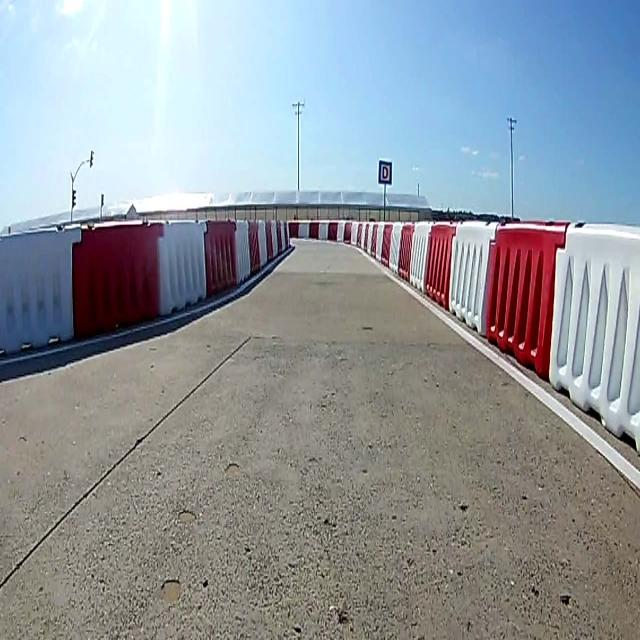durak: (377, 157, 393, 186)
